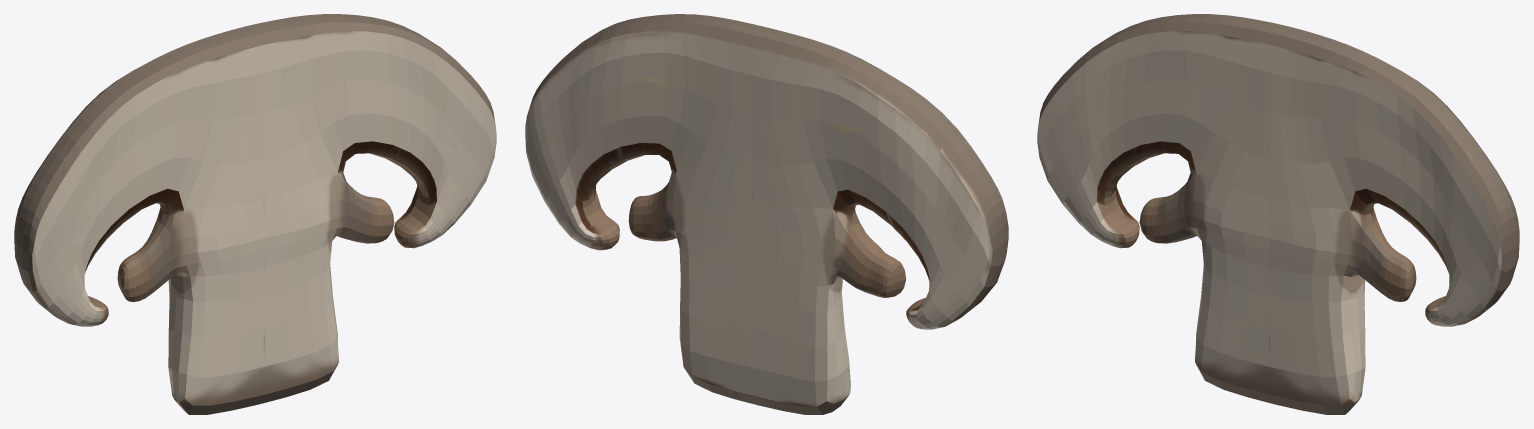
File: mushroom.fbx
3 views of the same model, side by side, from view 1: azimuth 30°, elevation 25°; view 2: azimuth 150°, elevation 25°; view 3: azimuth 330°, elevation 25° (orthographic).
Parts seen in each view (by area): view 1: Cube; view 2: Cube; view 3: Cube.
Part boxes in pixels (bbox=[...]): Cube: bbox=[14, 14, 496, 414]; Cube: bbox=[525, 14, 1008, 414]; Cube: bbox=[1037, 14, 1519, 414].
Size of the model in its own units: 427 by 324 by 41.87.
